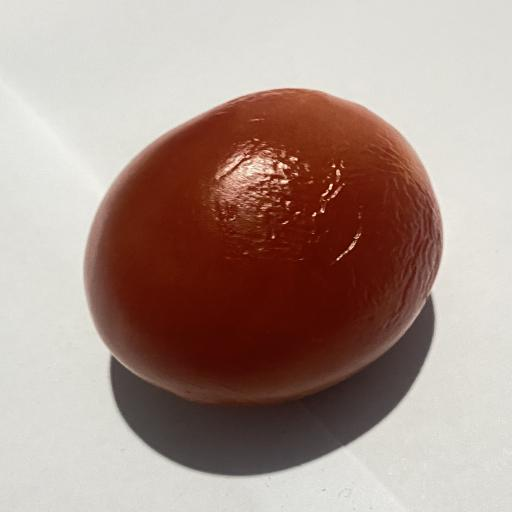spoiled: (85, 89, 442, 405)
